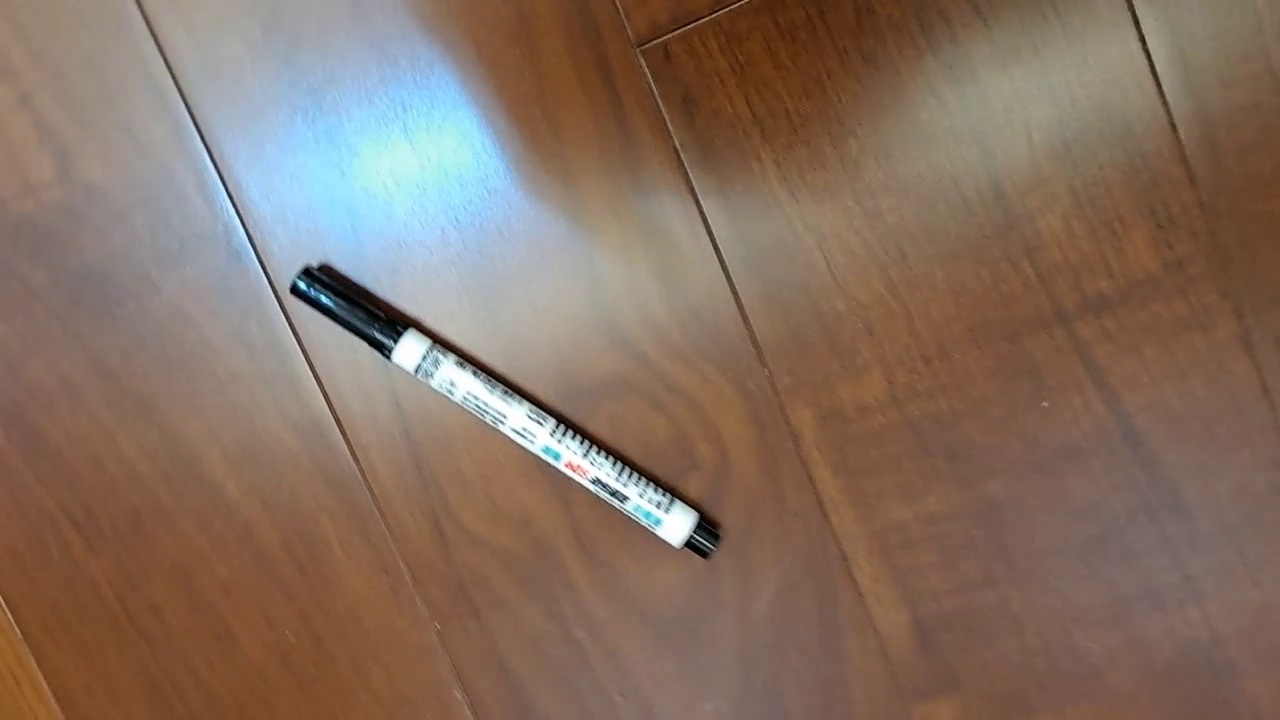pen: (288, 262, 724, 563)
